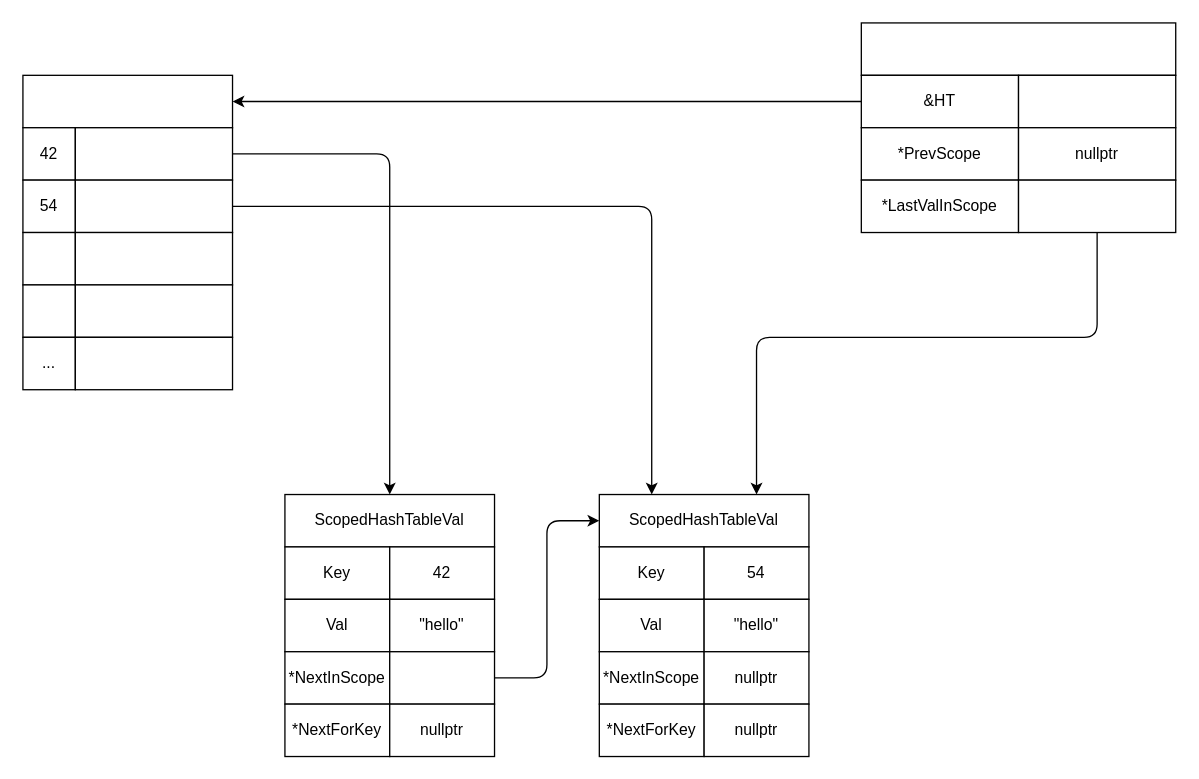
Image size: 1199x779. Some labels were removed from this diagram. Each missing label, with the box of its shape:
ScopeHashTableScope1: (860, 22, 1176, 75)
TopLevelMap: (22, 74, 233, 128)
